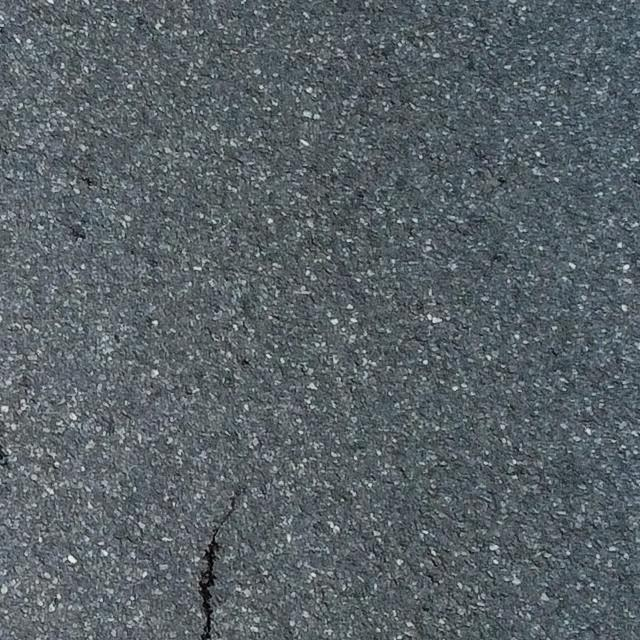LongitudinalCrack: (197, 496, 241, 640)
